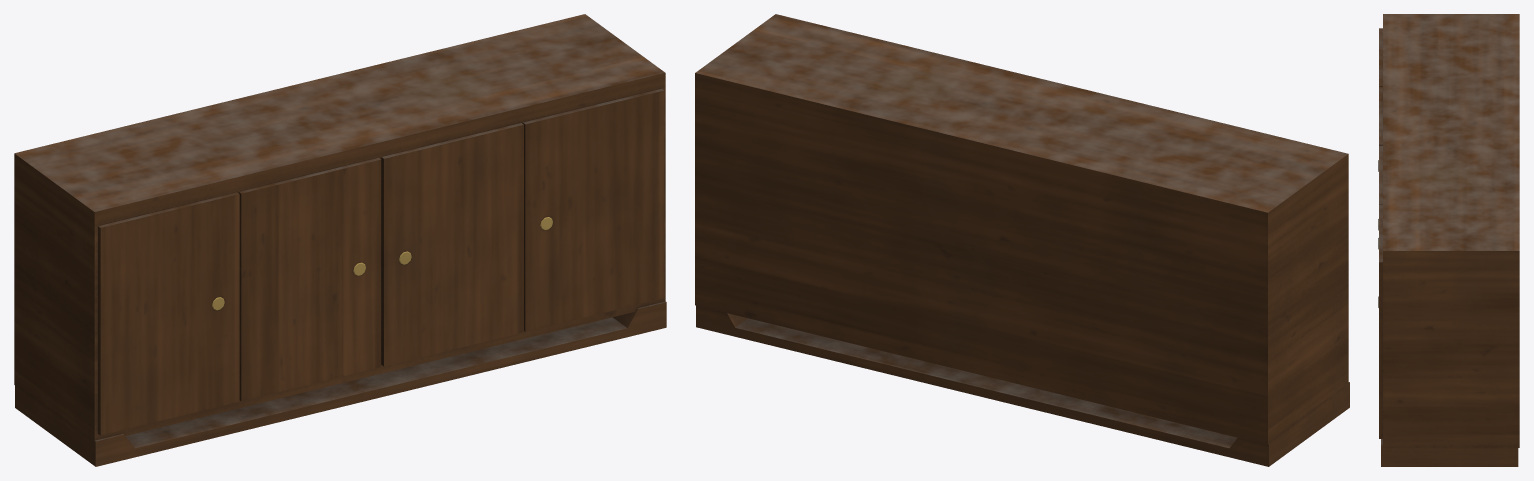
The model's file is H_TVConsole_Buffet.fbx.
The picture shows the model from 3 angles, left to right: view 1: azimuth 30°, elevation 25°; view 2: azimuth 150°, elevation 25°; view 3: azimuth 270°, elevation 25°; orthographic projection. The views are drawn at different scales.
Visible parts, largest first — view 1: H_TVConsole_Buffet; view 2: H_TVConsole_Buffet; view 3: H_TVConsole_Buffet.
Boxes of the visible parts, x1,y1,x2,y2 form: H_TVConsole_Buffet: (14, 14, 666, 466); H_TVConsole_Buffet: (695, 14, 1349, 466); H_TVConsole_Buffet: (1378, 14, 1519, 466).
Bounding box in the file's own units: 800 × 340 × 202.
1 material, 1 textured.
